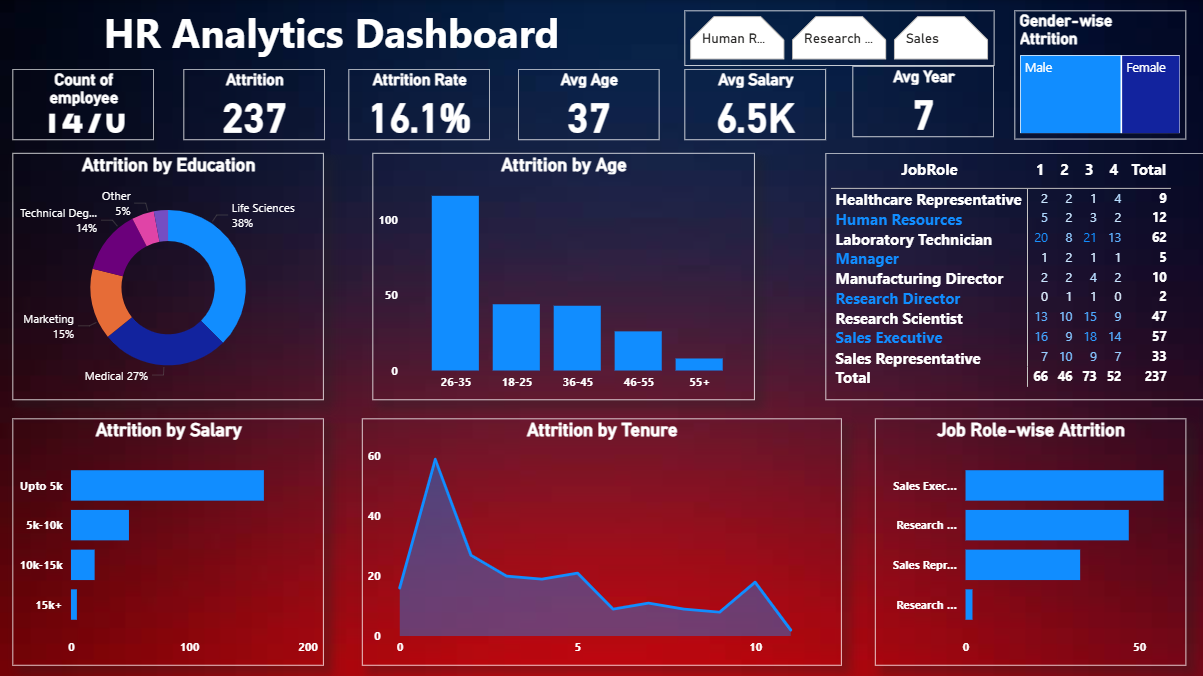

The page's visual inventory and layout, read from the dashboard file:
{"tool":"powerbi","page":{"name":"Page 1","canvas":[1280,720],"ordinal":0},"visuals":[{"type":"card","title":"Count of employee","fields":{"Values":["Count(HR_Analytics.EmpID)"]},"box":[15,73.3,150,75],"z":0},{"type":"card","title":"Avg Age","fields":{"Values":["Avg(HR_Analytics.Age)"]},"box":[550,73.3,150,75],"z":1000},{"type":"card","title":"Attrition Rate","fields":{"Values":["HR_Analytics.attrition rate"]},"box":[370,73.3,150,75],"z":2000},{"type":"card","title":"Attrition","fields":{"Values":["Sum(HR_Analytics.attrition count)"]},"box":[195,73.3,150,75],"z":3000},{"type":"card","title":"Avg Salary","fields":{"Values":["Avg(HR_Analytics.MonthlyIncome)"]},"box":[726.7,73.3,150,75],"z":4000},{"type":"card","title":"Avg Year","fields":{"Values":["Avg(HR_Analytics.YearsAtCompany)"]},"box":[905,70,150,75],"z":5000},{"type":"donutChart","title":"Attrition by Education","fields":{"Category":["HR_Analytics.EducationField"],"Y":["Sum(HR_Analytics.attrition count)"]},"box":[15,161.7,330,261.7],"z":6000},{"type":"clusteredColumnChart","title":"Attrition by Age","fields":{"Category":["HR_Analytics.AgeGroup"],"Y":["Sum(HR_Analytics.attrition count)"]},"box":[396.7,161.7,405,261.7],"z":7000},{"type":"pivotTable","fields":{"Columns":["HR_Analytics.JobSatisfaction"],"Rows":["HR_Analytics.JobRole"],"Values":["Sum(HR_Analytics.attrition count)"]},"box":[876.7,161.7,403.3,261.7],"z":8000},{"type":"barChart","title":"Attrition by Salary","fields":{"Category":["HR_Analytics.SalarySlab"],"Y":["Sum(HR_Analytics.attrition count)"]},"box":[15,443.3,330,261.7],"z":9000},{"type":"barChart","title":"Job Role-wise Attrition","fields":{"Category":["HR_Analytics.JobRole"],"Y":["Sum(HR_Analytics.attrition count)"]},"box":[928.3,443.3,330,261.7],"z":10000},{"type":"areaChart","title":"Attrition by Tenure","fields":{"Category":["HR_Analytics.YearsAtCompany"],"Y":["Sum(HR_Analytics.attrition count)"]},"box":[385,443.3,508.3,261.7],"z":11000},{"type":"treemap","title":"Gender-wise Attrition","fields":{"Group":["HR_Analytics.Gender"],"Values":["Sum(HR_Analytics.attrition count)"]},"box":[1076.7,11.7,181.7,136.7],"z":12000},{"type":"advancedSlicerVisual","fields":{"Values":["HR_Analytics.Department"]},"box":[726.7,11.7,328.3,58.3],"z":13000},{"type":"textbox","box":[30,0,645,70],"z":14000}]}

Visuals, with their boxes in screenshot pixels (x1, y1, x2, y2), scaled from the page's 1280x720 canvas onto the 1203x676 screenshot:
"Count of employee" card: [x1=14, y1=69, x2=155, y2=139]
"Avg Age" card: [x1=517, y1=69, x2=658, y2=139]
"Attrition Rate" card: [x1=348, y1=69, x2=489, y2=139]
"Attrition" card: [x1=183, y1=69, x2=324, y2=139]
"Avg Salary" card: [x1=683, y1=69, x2=824, y2=139]
"Avg Year" card: [x1=851, y1=66, x2=992, y2=136]
"Attrition by Education" donutChart: [x1=14, y1=152, x2=324, y2=398]
"Attrition by Age" clusteredColumnChart: [x1=373, y1=152, x2=753, y2=398]
pivotTable - HR_Analytics.JobSatisfaction x HR_Analytics.JobRole: [x1=824, y1=152, x2=1202, y2=398]
"Attrition by Salary" barChart: [x1=14, y1=416, x2=324, y2=662]
"Job Role-wise Attrition" barChart: [x1=872, y1=416, x2=1183, y2=662]
"Attrition by Tenure" areaChart: [x1=362, y1=416, x2=840, y2=662]
"Gender-wise Attrition" treemap: [x1=1012, y1=11, x2=1183, y2=139]
advancedSlicerVisual - HR_Analytics.Department: [x1=683, y1=11, x2=992, y2=66]
textbox: [x1=28, y1=0, x2=634, y2=66]
